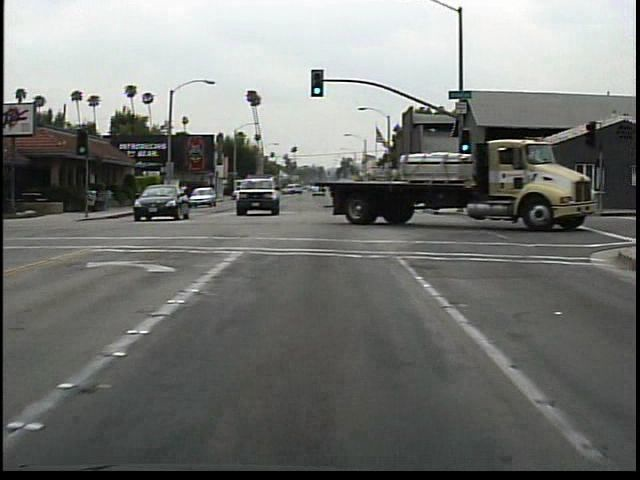person: (176, 182, 193, 206)
